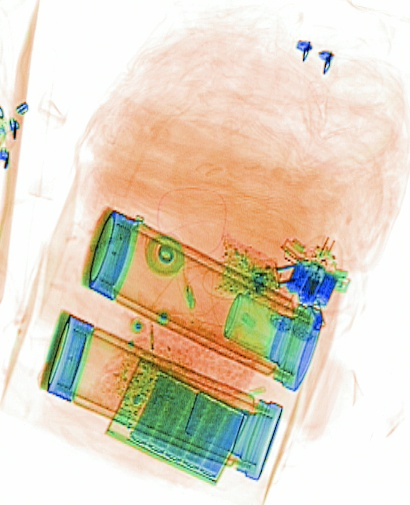powerbank: (105, 354, 248, 486)
